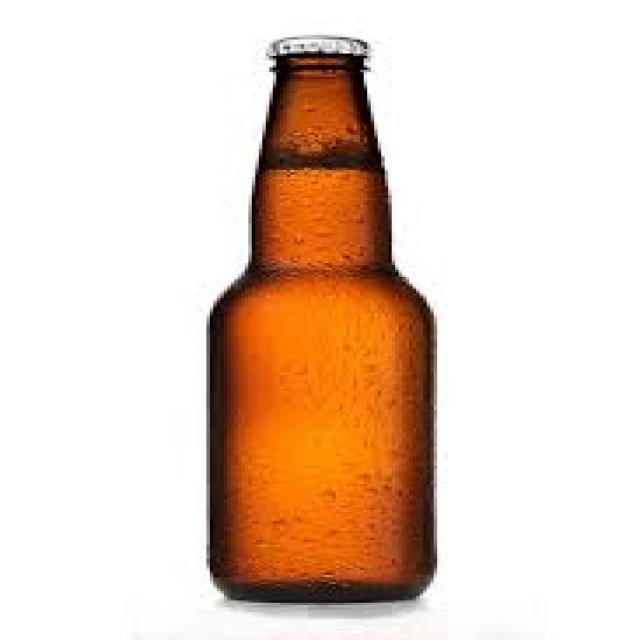glass: (207, 54, 431, 603)
metal: (262, 35, 364, 51)
